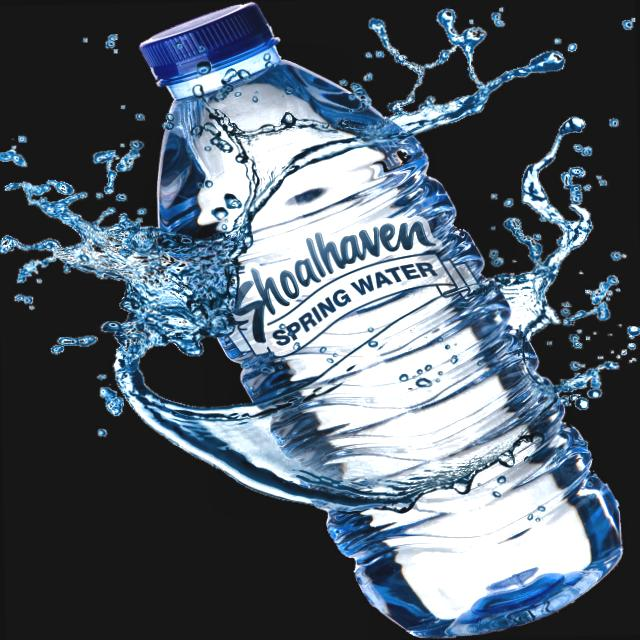plastic bottle: (132, 1, 629, 638)
